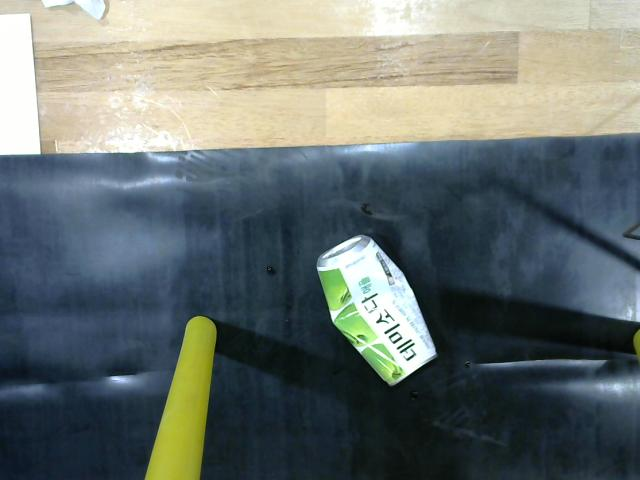can: (316, 231, 440, 392)
